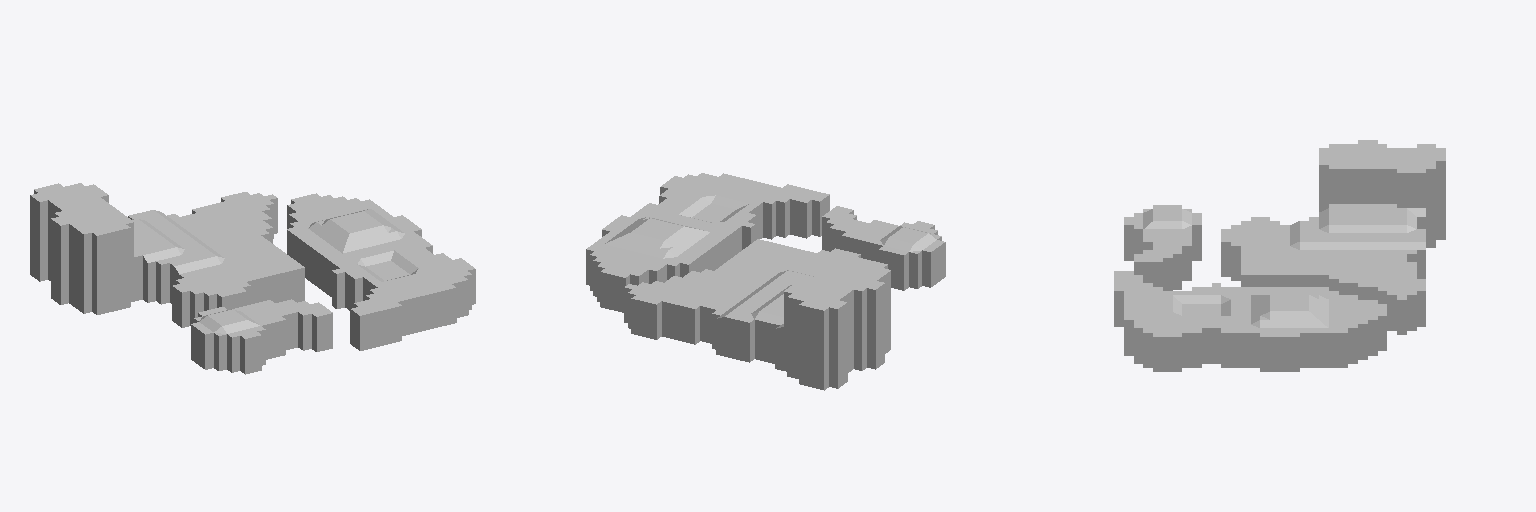
File: Tileset_Simple_Combined.obj
3 views of the same model, side by side, from view 1: azimuth 30°, elevation 25°; view 2: azimuth 150°, elevation 25°; view 3: azimuth 270°, elevation 25° (orthographic).
Parts seen in each view (by area): view 1: GardenMap_Simple5_mesh_mesh_Scene; view 2: GardenMap_Simple5_mesh_mesh_Scene; view 3: GardenMap_Simple5_mesh_mesh_Scene.
Boxes of the visible parts, x1=… form: GardenMap_Simple5_mesh_mesh_Scene: x1=30, y1=183, x2=475, y2=374; GardenMap_Simple5_mesh_mesh_Scene: x1=586, y1=173, x2=945, y2=390; GardenMap_Simple5_mesh_mesh_Scene: x1=1114, y1=140, x2=1445, y2=371.
Size of the model in its own units: 74 by 18 by 68.